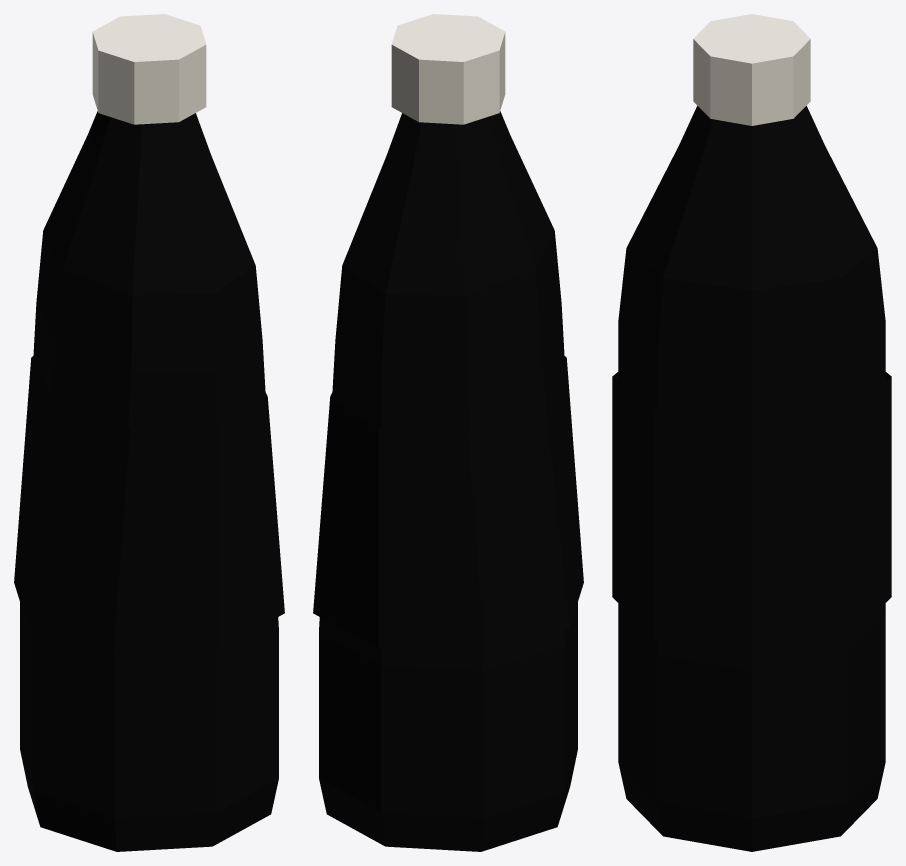
The model's file is Item_half_bottle.fbx.
3 views of the same model, side by side, from view 1: azimuth 30°, elevation 25°; view 2: azimuth 150°, elevation 25°; view 3: azimuth 270°, elevation 25° (orthographic).
Visible parts, largest first — view 1: Bottle.001, Label.001, Cap.001; view 2: Bottle.001, Label.001, Cap.001; view 3: Bottle.001, Label.001, Cap.001.
Part boxes in pixels (box(x1,y1,x2,y2)): Bottle.001: box(20, 111, 278, 851); Label.001: box(14, 356, 284, 655); Cap.001: box(92, 14, 206, 124); Bottle.001: box(319, 111, 577, 851); Label.001: box(313, 356, 583, 655); Cap.001: box(391, 14, 505, 124); Bottle.001: box(618, 106, 885, 851); Label.001: box(612, 372, 891, 655); Cap.001: box(693, 14, 810, 125).
Size of the model in its own units: 0.0931 by 0.2795 by 0.0932.
